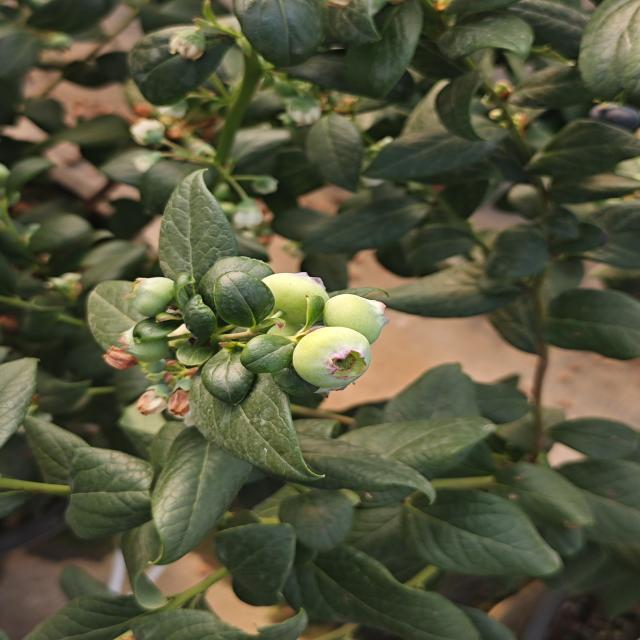ripe: (584, 97, 640, 132)
